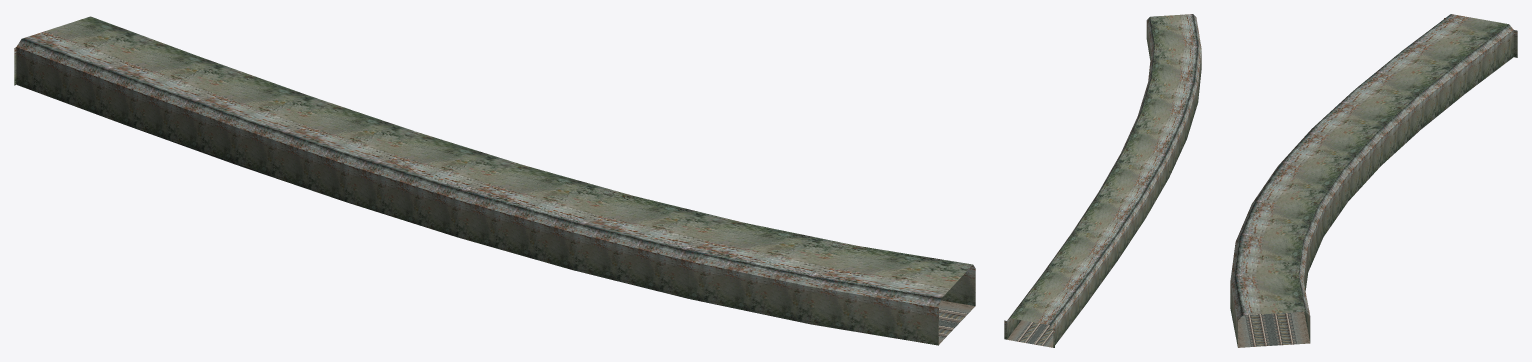
Rendered from cuntwrail09.obj.
3 views of the same model, side by side, from view 1: azimuth 30°, elevation 25°; view 2: azimuth 150°, elevation 25°; view 3: azimuth 330°, elevation 25° (orthographic). The views are drawn at different scales.
Parts seen in each view (by area): view 1: cuntwrail09; view 2: cuntwrail09; view 3: cuntwrail09.
Part boxes in pixels (box(x1,y1,x2,y2)): cuntwrail09: box(14, 16, 975, 345); cuntwrail09: box(1004, 14, 1201, 347); cuntwrail09: box(1230, 14, 1517, 347).
Size of the model in its own units: 49.38 by 17.99 by 134.
